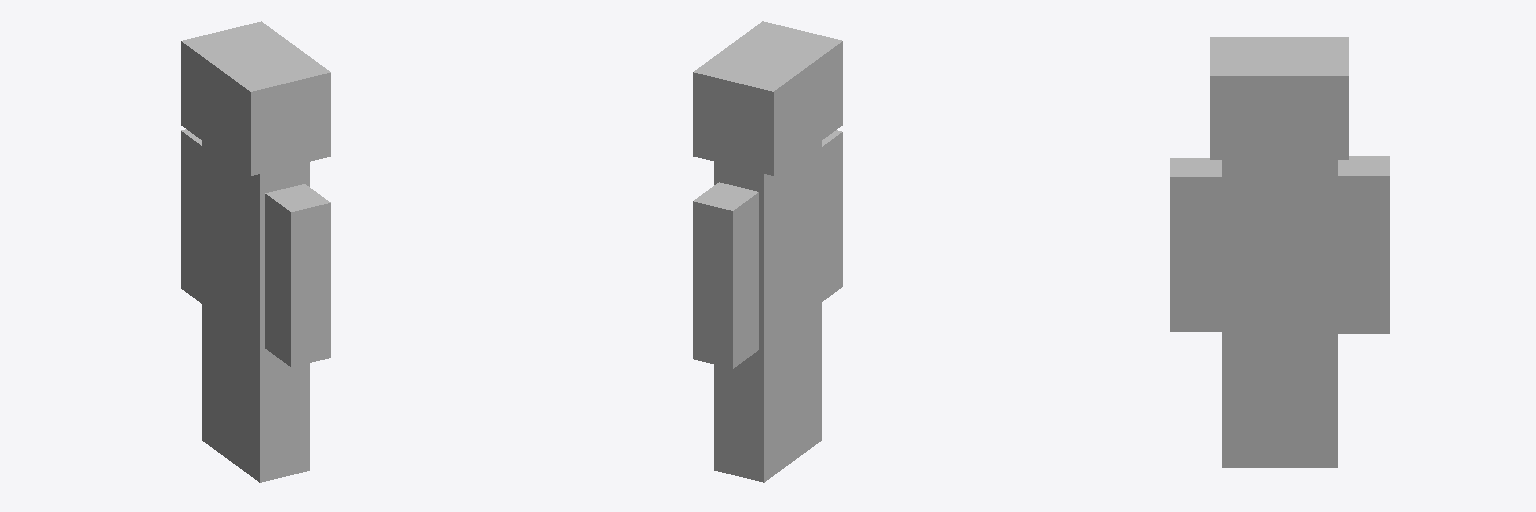
File: player.obj
3 renders of one model, left to right at view 1: azimuth 30°, elevation 25°; view 2: azimuth 150°, elevation 25°; view 3: azimuth 270°, elevation 25°, orthographic.
Visible parts, largest first — view 1: body, head, rightarm, leftarm; view 2: body, head, leftarm, rightarm; view 3: body, head, leftarm, rightarm.
Part boxes in pixels (left/top/right/bottom): body: left=202, top=141, right=309, bottom=482; head: left=181, top=21, right=330, bottom=175; rightarm: left=265, top=184, right=330, bottom=367; leftarm: left=181, top=129, right=201, bottom=303; body: left=714, top=141, right=821, bottom=482; head: left=693, top=21, right=842, bottom=175; leftarm: left=693, top=182, right=758, bottom=368; rightarm: left=822, top=130, right=842, bottom=301; body: left=1222, top=160, right=1337, bottom=467; head: left=1210, top=37, right=1348, bottom=159; leftarm: left=1338, top=156, right=1389, bottom=333; rightarm: left=1170, top=158, right=1221, bottom=331.
Bounding box in the file's own units: 0.4 × 1.89 × 0.9479.